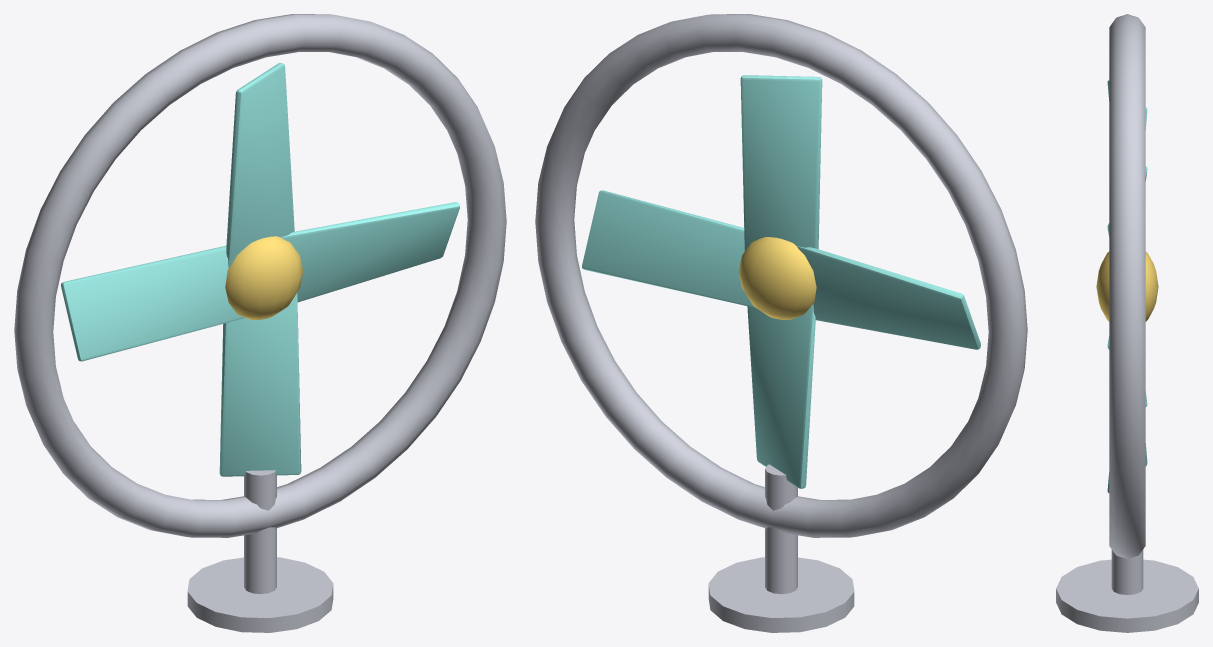
Rendered from fan.glb.
3 views of the same model, side by side, from view 1: azimuth 30°, elevation 25°; view 2: azimuth 150°, elevation 25°; view 3: azimuth 270°, elevation 25° (orthographic). The views are drawn at different scales.
Parts seen in each view (by area): view 1: FanRing, FanBlade3, FanBlade2, FanBlade0, FanBlade1, FanFoot, FanHub, FanStand; view 2: FanRing, FanBlade0, FanBlade1, FanBlade3, FanBlade2, FanFoot, FanHub, FanStand; view 3: FanRing, FanFoot, FanHub, FanStand.
Part boxes in pixels (x1,y1,x2,y2): FanRing: [14, 14, 506, 537]; FanBlade3: [61, 246, 244, 361]; FanBlade2: [219, 293, 301, 476]; FanBlade0: [226, 63, 294, 267]; FanBlade1: [280, 202, 459, 302]; FanFoot: [187, 557, 333, 632]; FanHub: [225, 236, 303, 319]; FanStand: [244, 470, 276, 594]; FanRing: [535, 14, 1027, 537]; FanBlade0: [740, 75, 822, 250]; FanBlade1: [582, 190, 755, 307]; FanBlade3: [797, 246, 980, 349]; FanBlade2: [747, 304, 815, 488]; FanFoot: [708, 557, 854, 632]; FanHub: [738, 237, 816, 319]; FanStand: [765, 464, 797, 594]; FanRing: [1109, 14, 1145, 558]; FanFoot: [1056, 559, 1198, 632]; FanHub: [1096, 251, 1158, 321]; FanStand: [1111, 549, 1143, 594].
Bounding box in the file's own units: 3.44 × 3.92 × 0.9.
